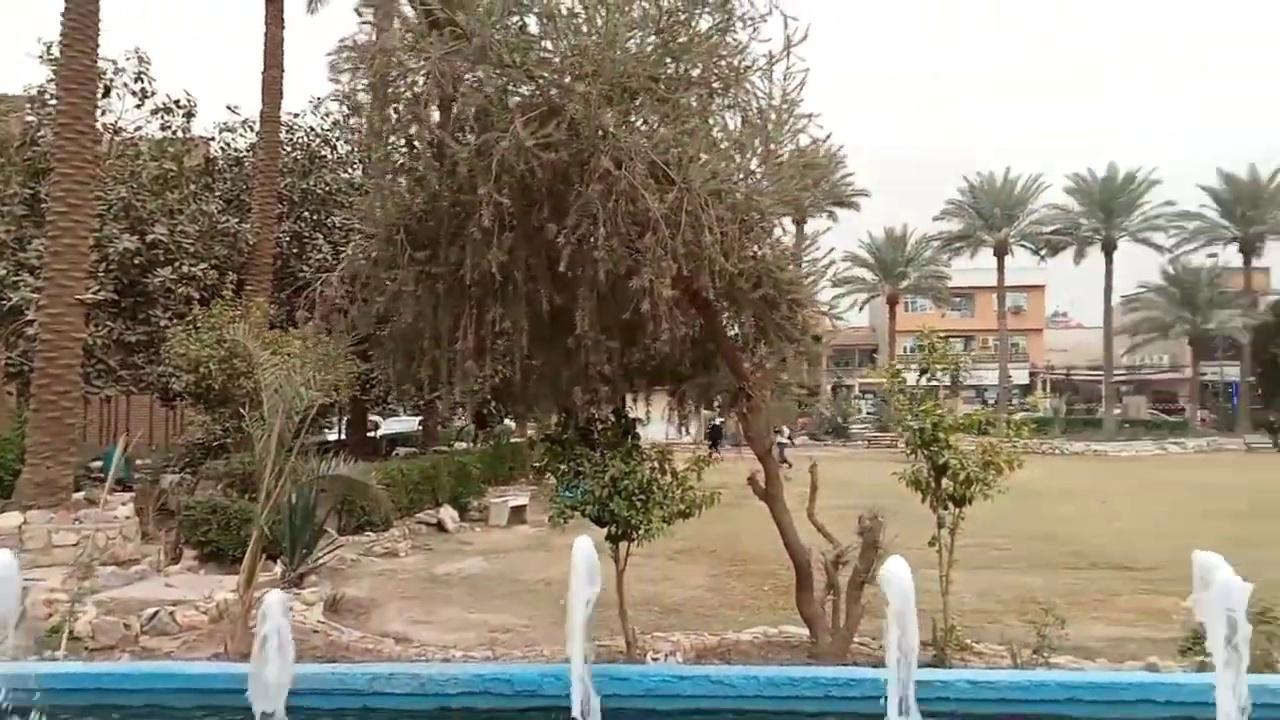fountain: (2, 540, 1276, 717), (0, 658, 1278, 718), (1185, 548, 1255, 718), (874, 552, 923, 717), (562, 533, 603, 718), (244, 587, 296, 718), (0, 546, 23, 657)
person: (772, 424, 794, 468), (705, 419, 724, 460)
tree: (339, 0, 894, 661), (73, 100, 361, 483), (0, 0, 195, 509), (151, 299, 392, 660), (336, 1, 520, 451), (875, 322, 1030, 668), (533, 405, 723, 661), (1034, 159, 1180, 436), (751, 134, 870, 419), (929, 165, 1057, 429), (1168, 161, 1279, 433), (1115, 251, 1241, 430), (828, 222, 953, 373), (1168, 161, 1279, 266), (911, 322, 974, 414)
